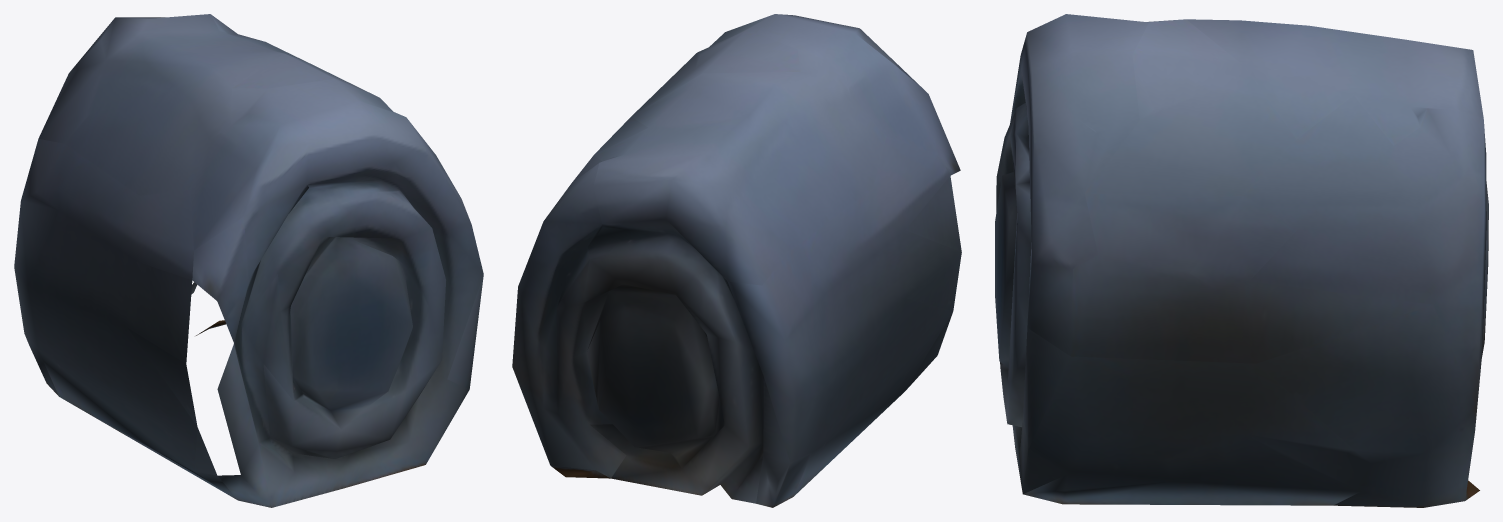
The model's file is blue-cloth-roll.glb.
3 views of the same model, side by side, from view 1: azimuth 30°, elevation 25°; view 2: azimuth 150°, elevation 25°; view 3: azimuth 270°, elevation 25° (orthographic). The views are drawn at different scales.
Parts seen in each view (by area): view 1: blue-cloth-roll; view 2: blue-cloth-roll; view 3: blue-cloth-roll.
Part boxes in pixels (<box>): blue-cloth-roll: <box>14,14,483,507</box>; blue-cloth-roll: <box>512,14,961,507</box>; blue-cloth-roll: <box>995,14,1488,507</box>.
Bounding box in the file's own units: 0.1233 × 0.1419 × 0.153.
1 material, 1 textured.
